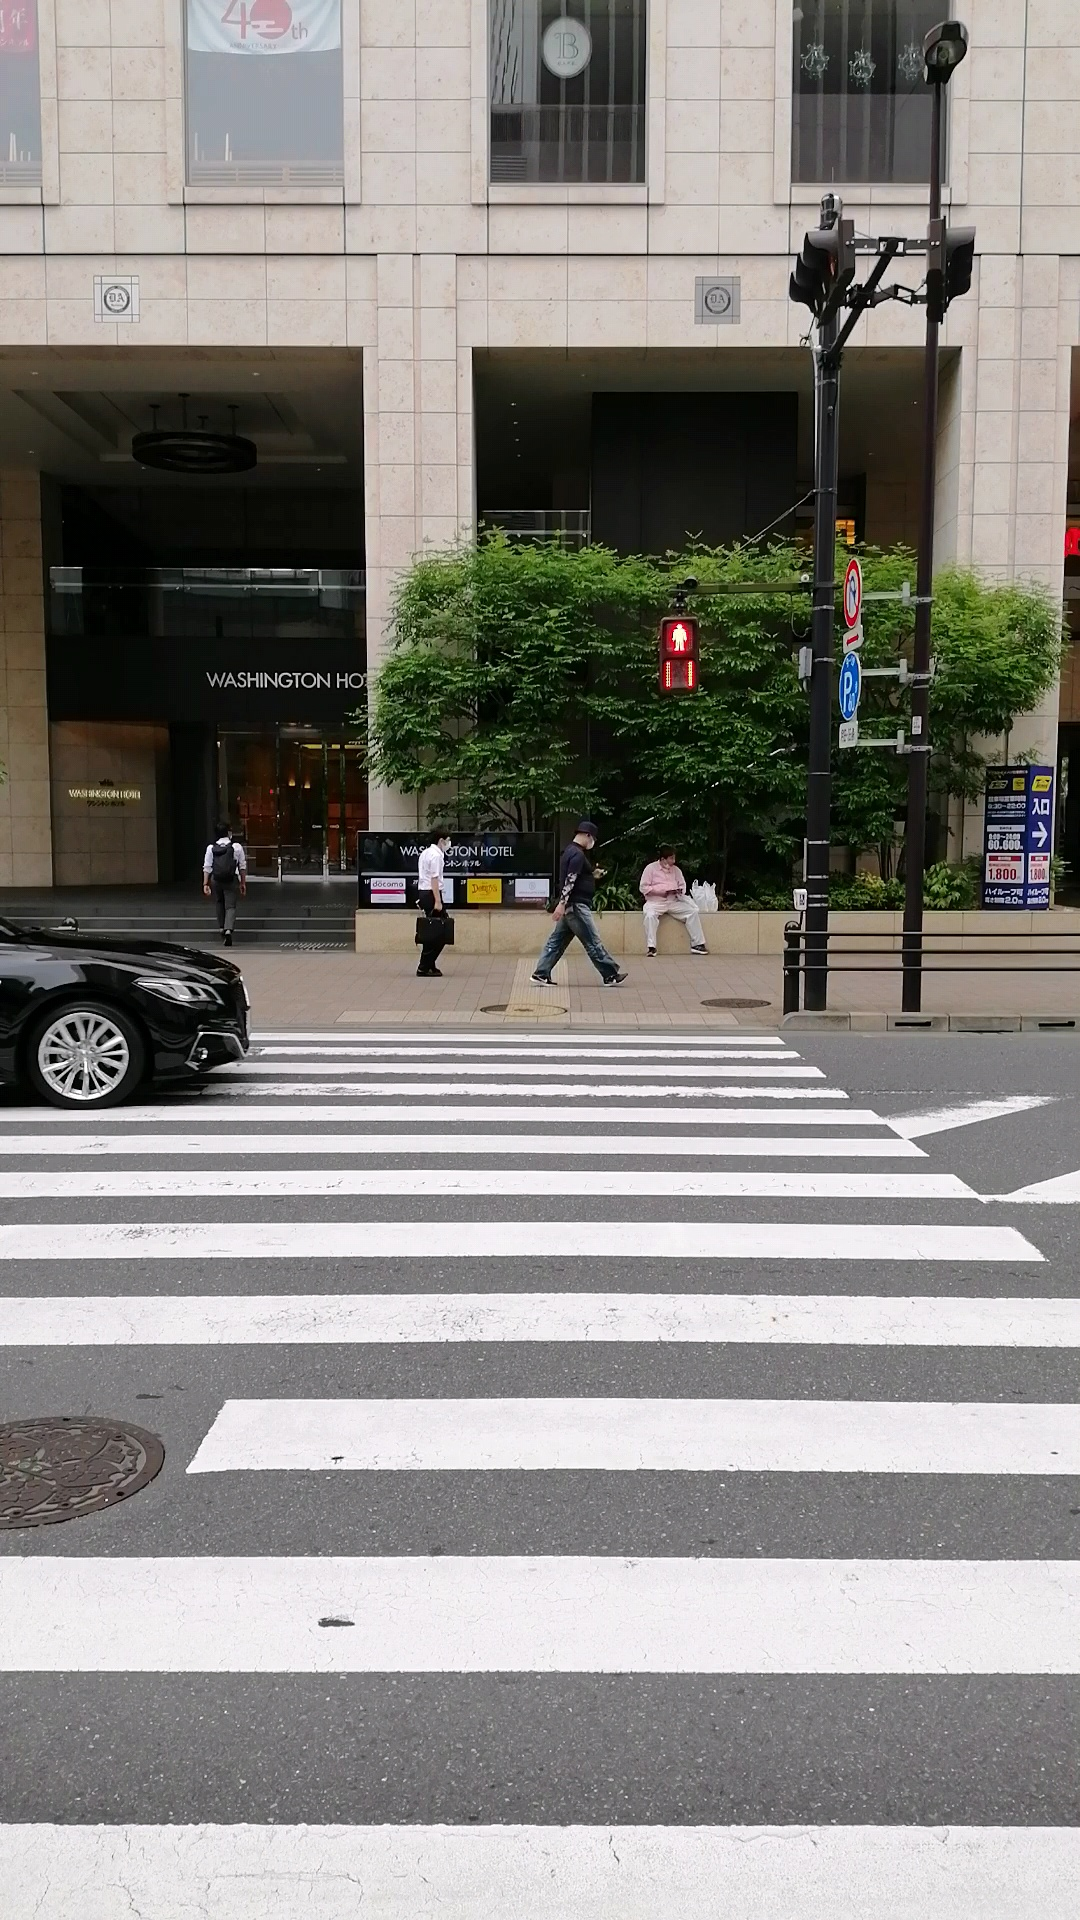red: (658, 615, 702, 695)
